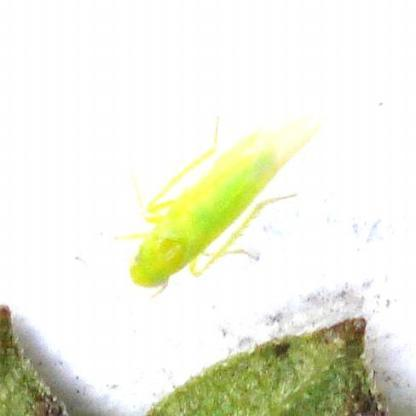green-leafhopper: (126, 117, 310, 298)
